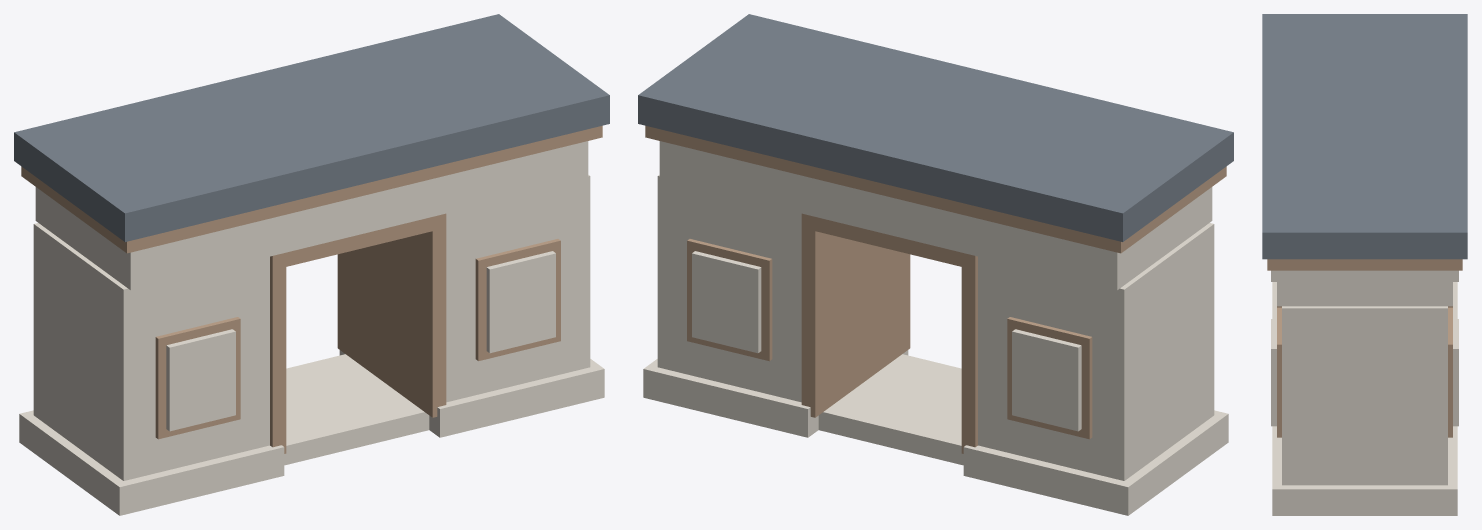
The model's file is wall-gate.glb.
3 views of the same model, side by side, from view 1: azimuth 30°, elevation 25°; view 2: azimuth 150°, elevation 25°; view 3: azimuth 270°, elevation 25° (orthographic). The views are drawn at different scales.
Visible parts, largest first — view 1: wall-gate; view 2: wall-gate; view 3: wall-gate.
Part boxes in pixels (x1,y1,x2,y2): wall-gate: (14, 14, 609, 515); wall-gate: (638, 14, 1233, 515); wall-gate: (1262, 14, 1467, 515).
Bounding box in the file's own units: 2.12 × 1.28 × 0.84.
